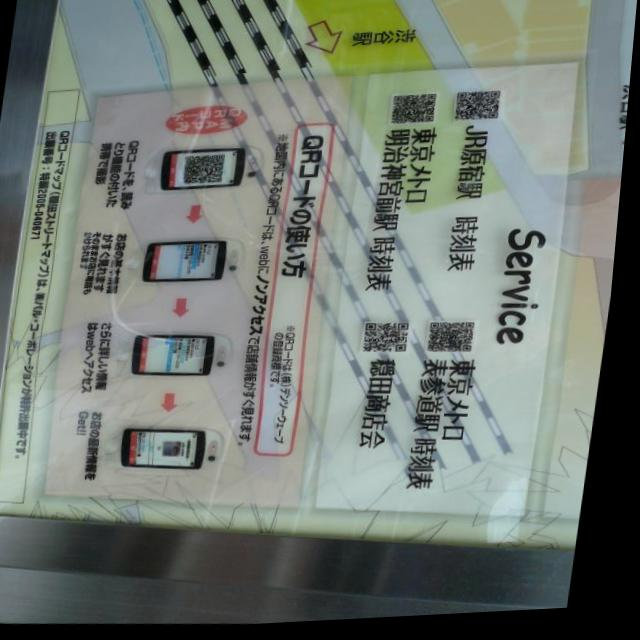qrcode: (456, 95, 504, 129), (369, 326, 417, 359), (434, 327, 481, 360), (393, 98, 439, 131), (185, 156, 229, 189)
